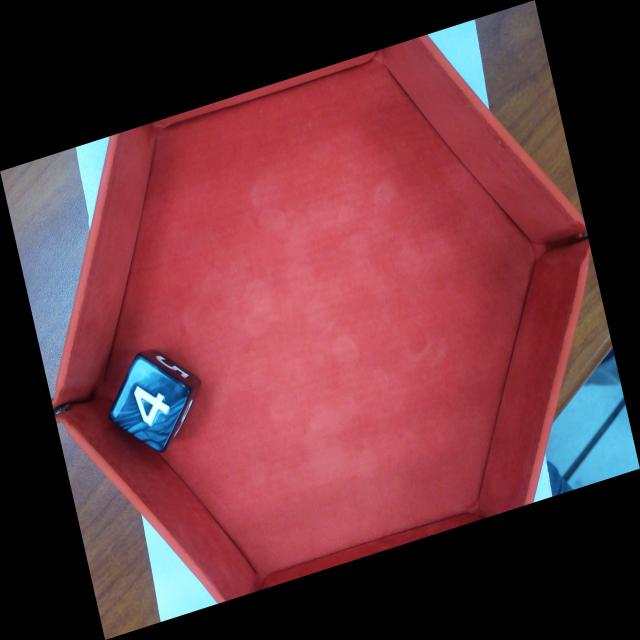dice: (112, 360, 189, 450)
